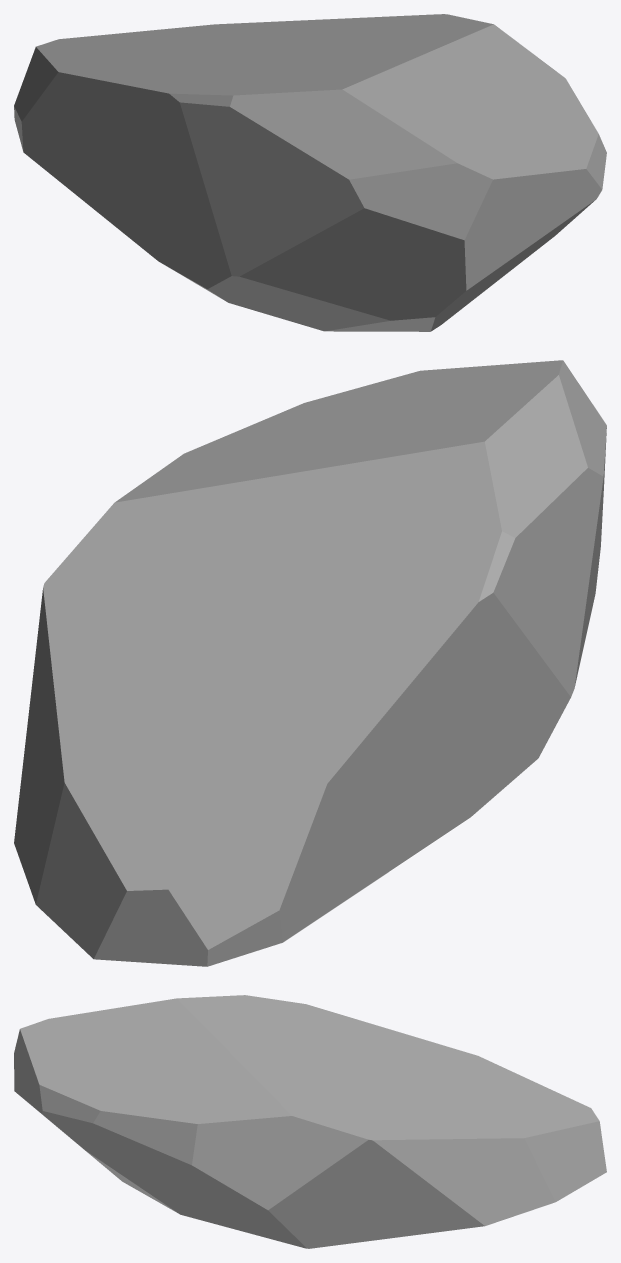
Rendered from HardRock_23.fbx.
3 renders of one model, top to bottom at view 1: azimuth 30°, elevation 25°; view 2: azimuth 150°, elevation 25°; view 3: azimuth 270°, elevation 25°, orthographic. The views are drawn at different scales.
Parts seen in each view (by area): view 1: HardRock_23; view 2: HardRock_23; view 3: HardRock_23.
Part boxes in pixels (x1,y1,x2,y2): HardRock_23: (14, 14, 606, 331); HardRock_23: (14, 360, 606, 966); HardRock_23: (14, 995, 606, 1248).
Bounding box in the file's own units: 126 × 75.66 × 249.
